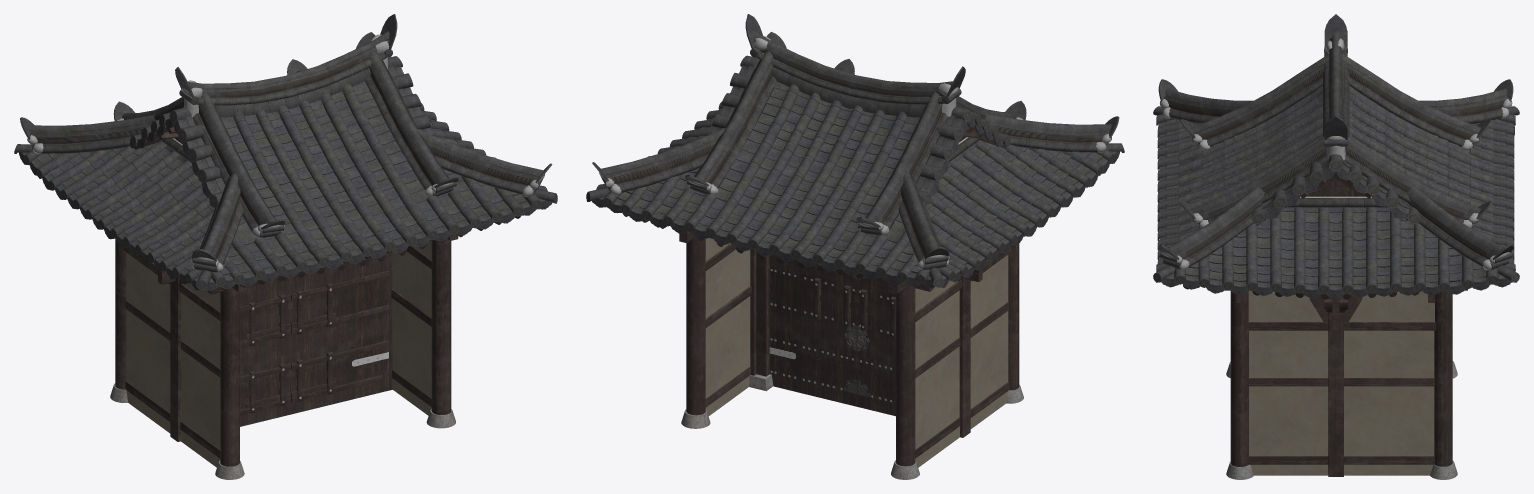
File: hyogyeong.glb
3 views of the same model, side by side, from view 1: azimuth 30°, elevation 25°; view 2: azimuth 150°, elevation 25°; view 3: azimuth 270°, elevation 25° (orthographic). The views are drawn at different scales.
Parts seen in each view (by area): view 1: Hyogyeongmun_back_gate, Hyogyeongmun_back_gate_Roof_Concrete_01_m_0.001, Hyogyeongmun_back_gate_Roof_Concrete_01_m_0.002; view 2: Hyogyeongmun_back_gate, Hyogyeongmun_back_gate_Roof_Concrete_01_m_0.002, Hyogyeongmun_back_gate_Roof_Concrete_01_m_0.001; view 3: Hyogyeongmun_back_gate, Hyogyeongmun_back_gate_Roof_Concrete_01_m_0.002, Hyogyeongmun_back_gate_Roof_Concrete_01_m_0.001.
Part boxes in pixels (x1,y1,x2,y2): Hyogyeongmun_back_gate: [19, 14, 557, 479]; Hyogyeongmun_back_gate_Roof_Concrete_01_m_0.001: [14, 81, 557, 286]; Hyogyeongmun_back_gate_Roof_Concrete_01_m_0.002: [36, 106, 344, 282]; Hyogyeongmun_back_gate: [586, 14, 1124, 479]; Hyogyeongmun_back_gate_Roof_Concrete_01_m_0.002: [589, 81, 1114, 283]; Hyogyeongmun_back_gate_Roof_Concrete_01_m_0.001: [620, 140, 1113, 287]; Hyogyeongmun_back_gate: [1153, 14, 1519, 479]; Hyogyeongmun_back_gate_Roof_Concrete_01_m_0.002: [1244, 86, 1515, 284]; Hyogyeongmun_back_gate_Roof_Concrete_01_m_0.001: [1153, 85, 1519, 284].
Size of the model in its own units: 7.23 by 7.1 by 6.57.
Materials: 10 (10 with a texture image).
